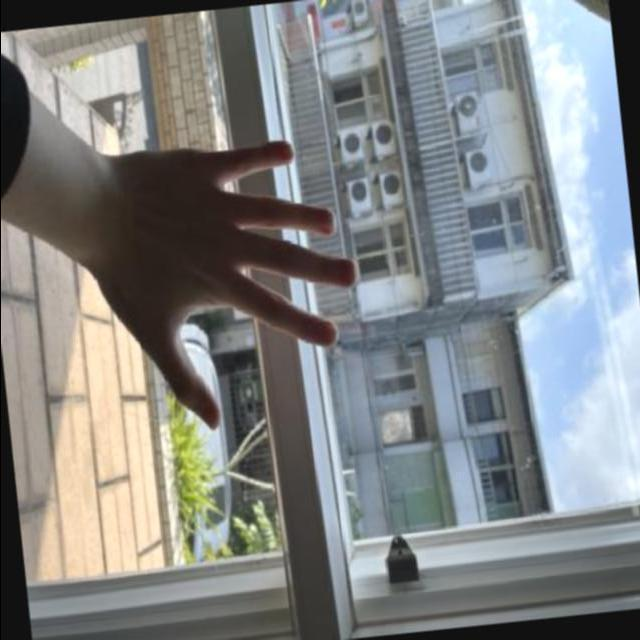hand: (75, 112, 382, 445)
